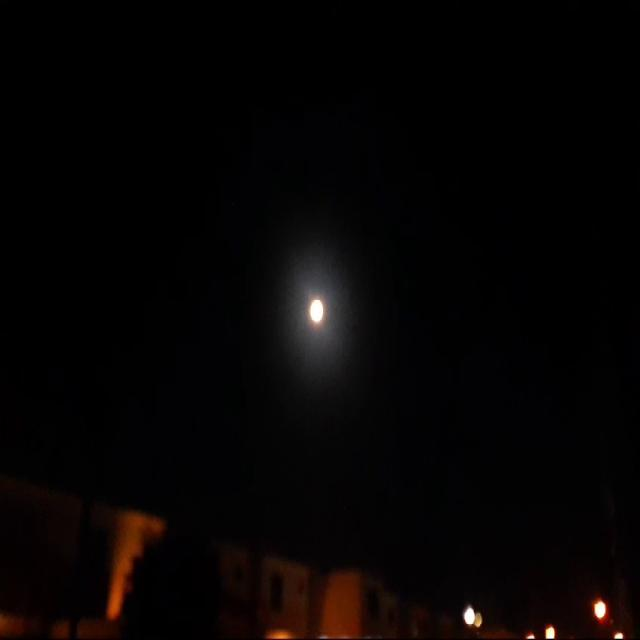moon: (305, 298, 322, 332)
